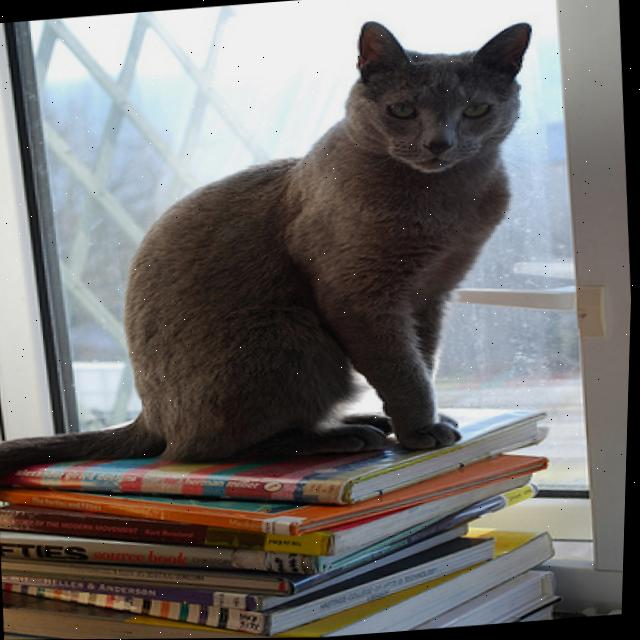Russian Blue: (0, 3, 565, 525)
